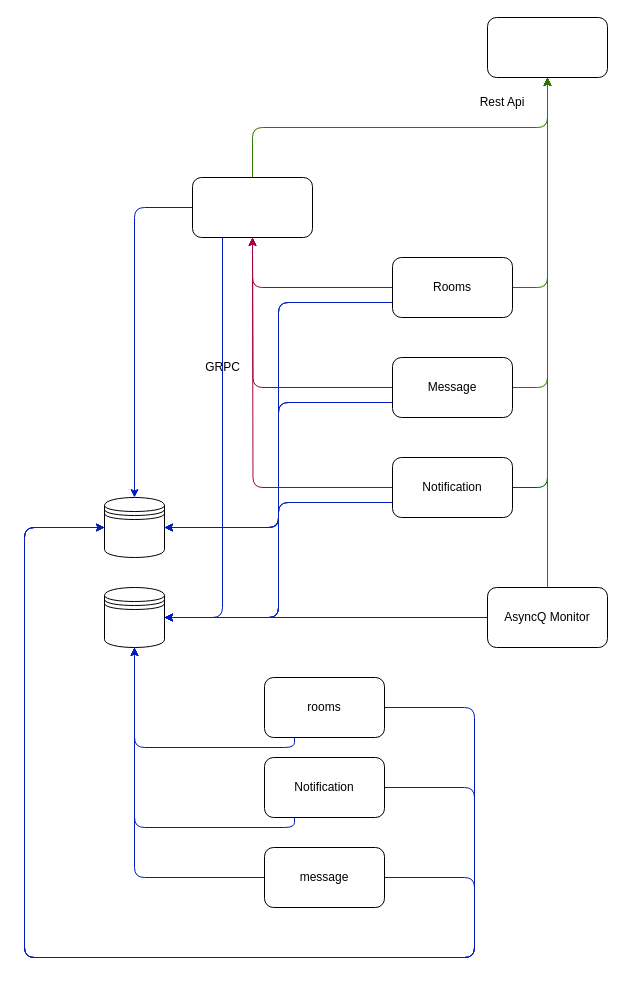
Image size: 625x983. Some labels were removed from this diagram. The shapes that lost their labels are listed below. From the top down, each one's box as (x1, y1, x2, y2) in pixels, then its label:
(486, 16, 608, 78): Ngnix
(192, 176, 312, 238): Auth
(104, 496, 164, 558): Mongodb
(104, 586, 164, 648): Redis
